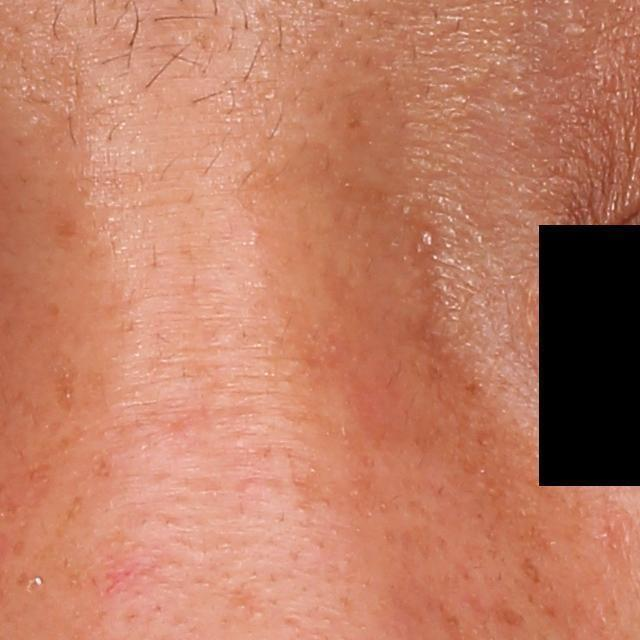comedo: (420, 228, 439, 250)
melasma: (44, 349, 82, 414), (499, 607, 532, 632), (518, 557, 543, 583)
